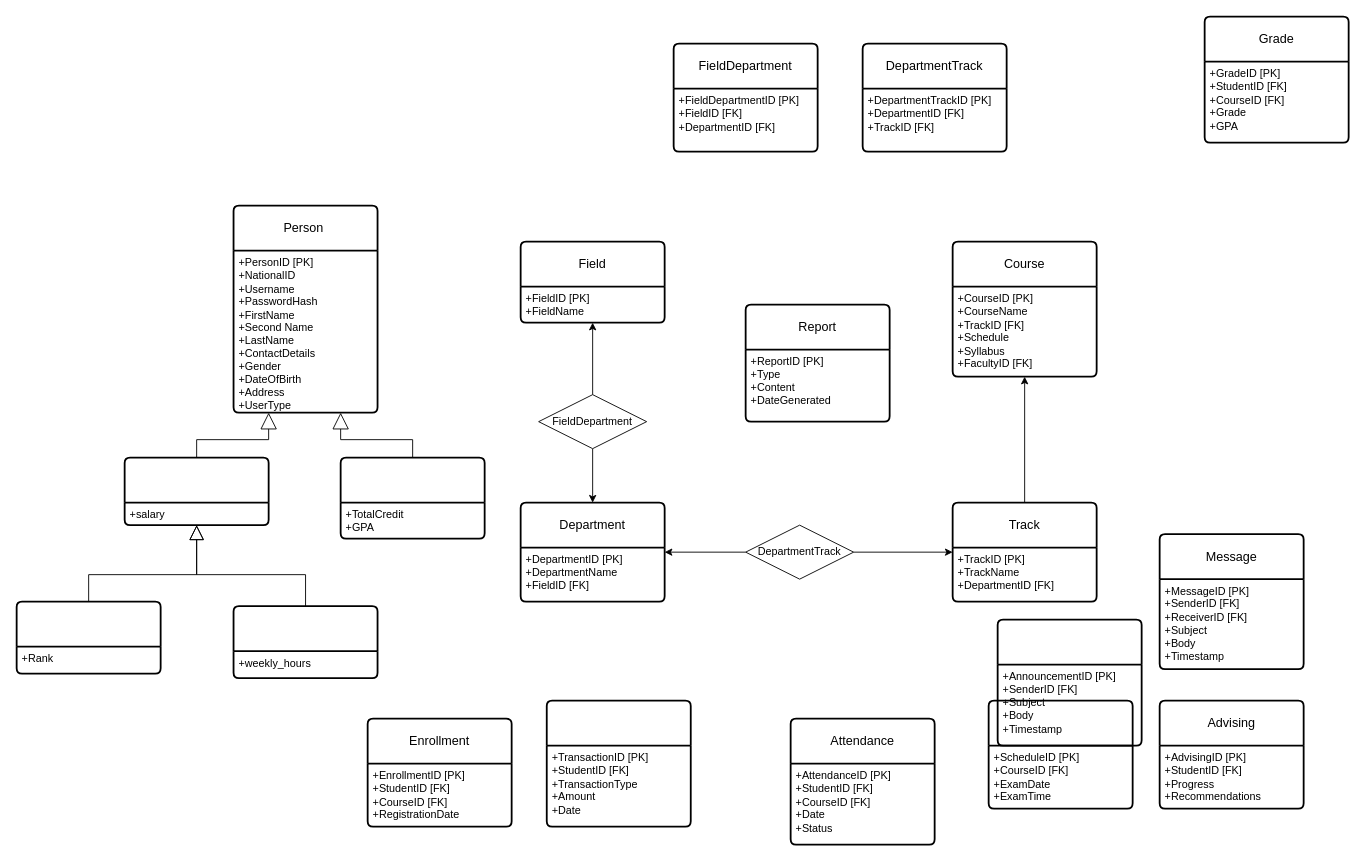
This 1364x860 diagram has some shape labels left out. The box of each missing label's shape, as (x1, y1, x2, y2) in pixels:
Administrator: (232, 605, 378, 679)
Announcement: (996, 618, 1142, 746)
Employee: (123, 456, 269, 526)
ExamSchedule: (987, 699, 1133, 809)
FinnancialTransaction: (545, 699, 691, 827)
Instructor: (15, 600, 161, 674)
Student: (339, 456, 485, 539)
